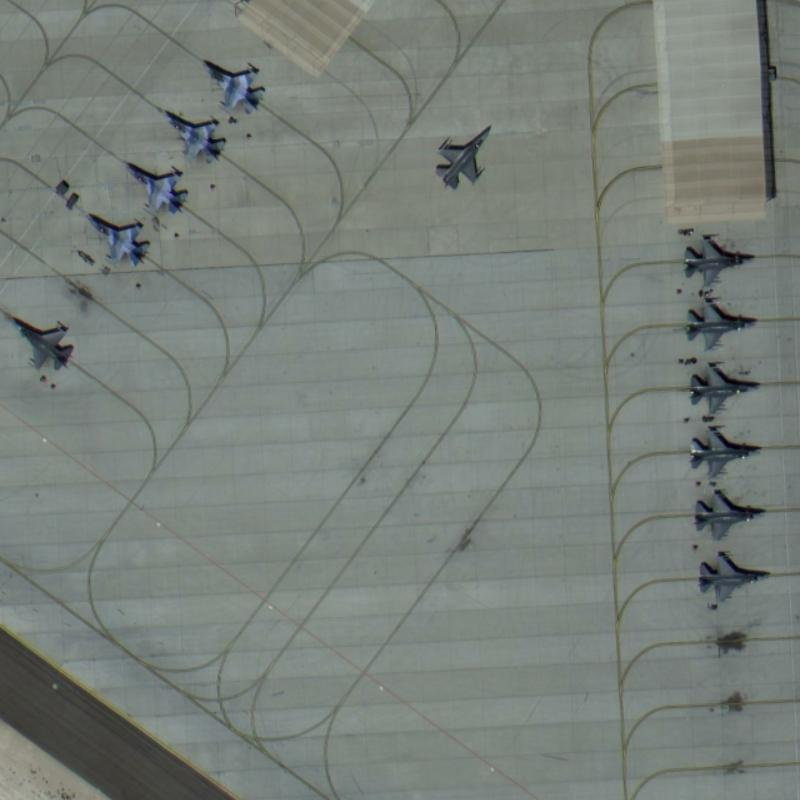A5: (0, 305, 81, 383), (426, 115, 503, 193), (193, 49, 272, 124), (689, 541, 772, 612), (676, 419, 763, 485), (680, 356, 765, 422), (118, 150, 198, 219), (686, 482, 770, 546), (676, 225, 760, 288), (79, 204, 152, 274), (681, 290, 758, 354), (158, 105, 229, 166)
